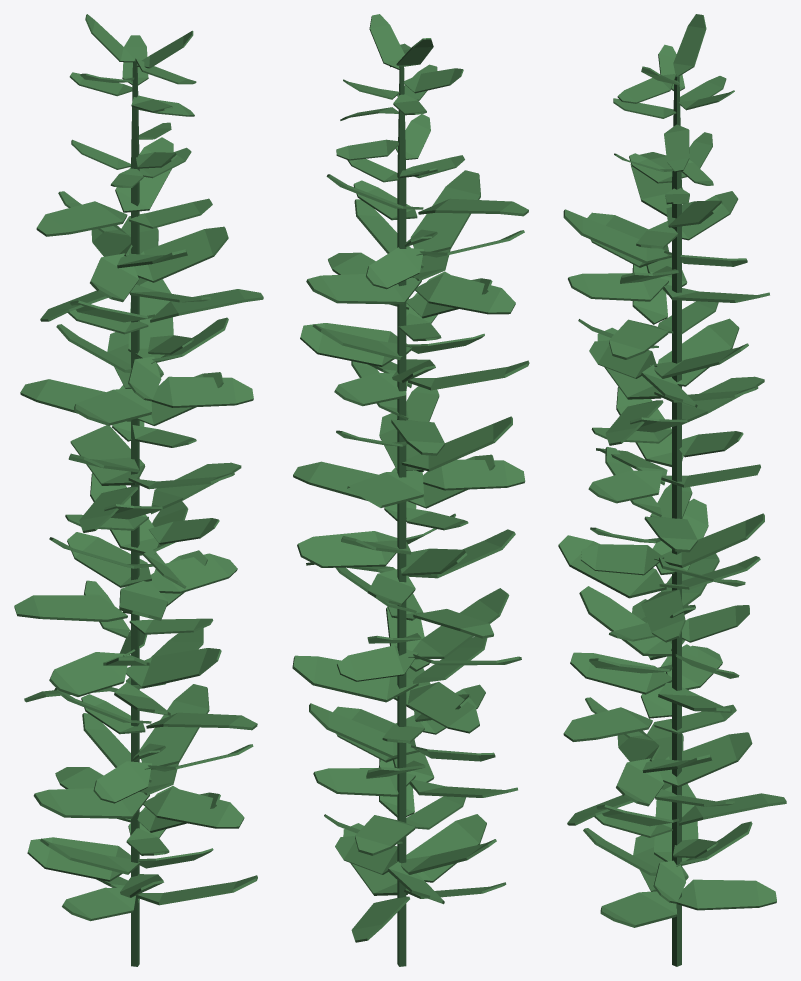
The model's file is Seaweed_008.glb.
3 views of the same model, side by side, from view 1: azimuth 30°, elevation 25°; view 2: azimuth 150°, elevation 25°; view 3: azimuth 270°, elevation 25° (orthographic).
Visible parts, largest first — view 1: Seaweed_008; view 2: Seaweed_008; view 3: Seaweed_008.
Boxes of the visible parts, box(x1,y1,x2,y2) form: Seaweed_008: box(14, 14, 263, 966); Seaweed_008: box(292, 14, 529, 966); Seaweed_008: box(558, 14, 786, 966).
Size of the model in its own units: 1.06 by 4.47 by 0.9919.
Materials: 1 (1 with a texture image).
